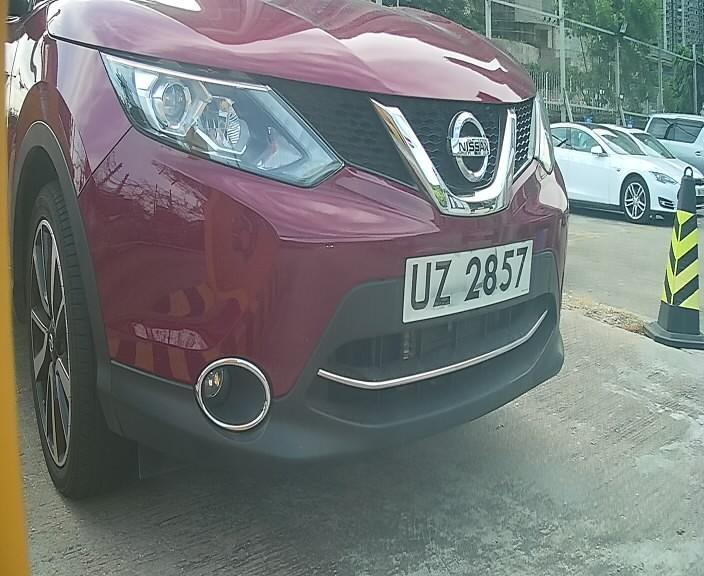privatecar: (19, 3, 595, 479)
